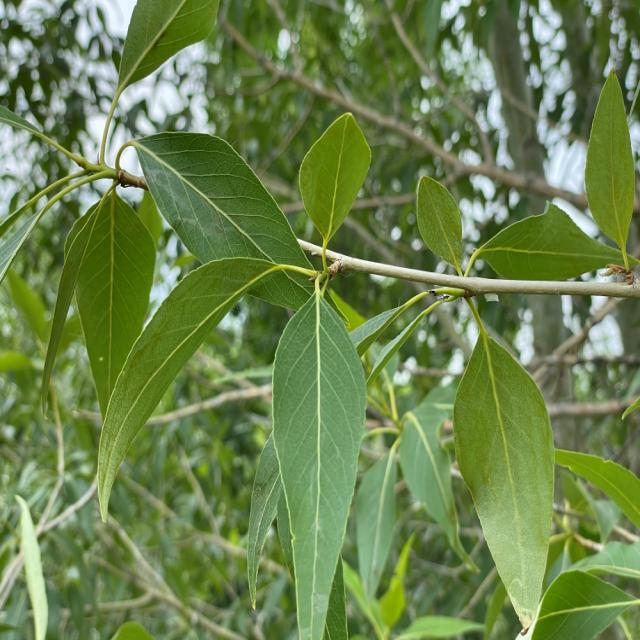Populus angustifolia: (0, 14, 630, 626)
